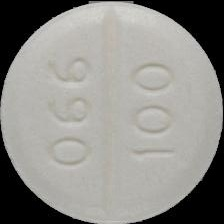63629-3707: (0, 0, 224, 224)
